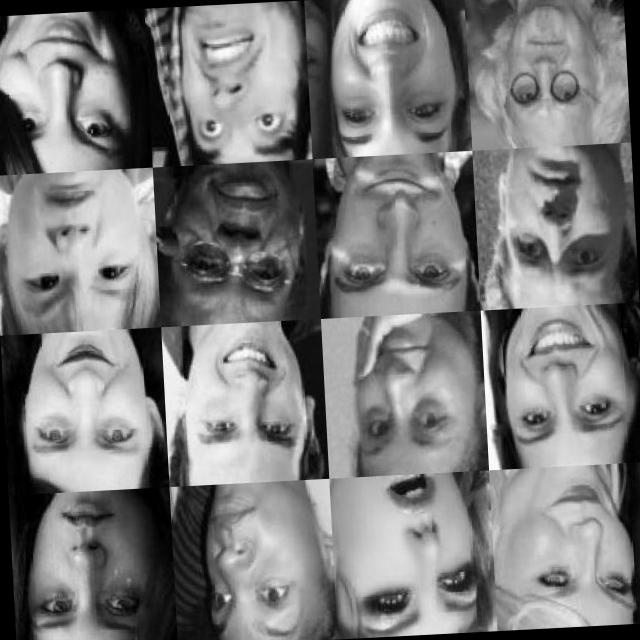angry: (22, 177, 148, 320)
fear: (497, 148, 621, 300), (183, 10, 307, 152)
happy: (0, 16, 135, 168), (336, 159, 468, 310), (514, 464, 638, 612), (22, 330, 152, 469), (334, 0, 456, 147), (509, 312, 630, 458), (184, 332, 314, 467), (352, 319, 474, 459), (493, 4, 594, 138)
neutral: (346, 472, 496, 628), (177, 168, 318, 308), (199, 492, 317, 637)
sad: (39, 492, 168, 631)
